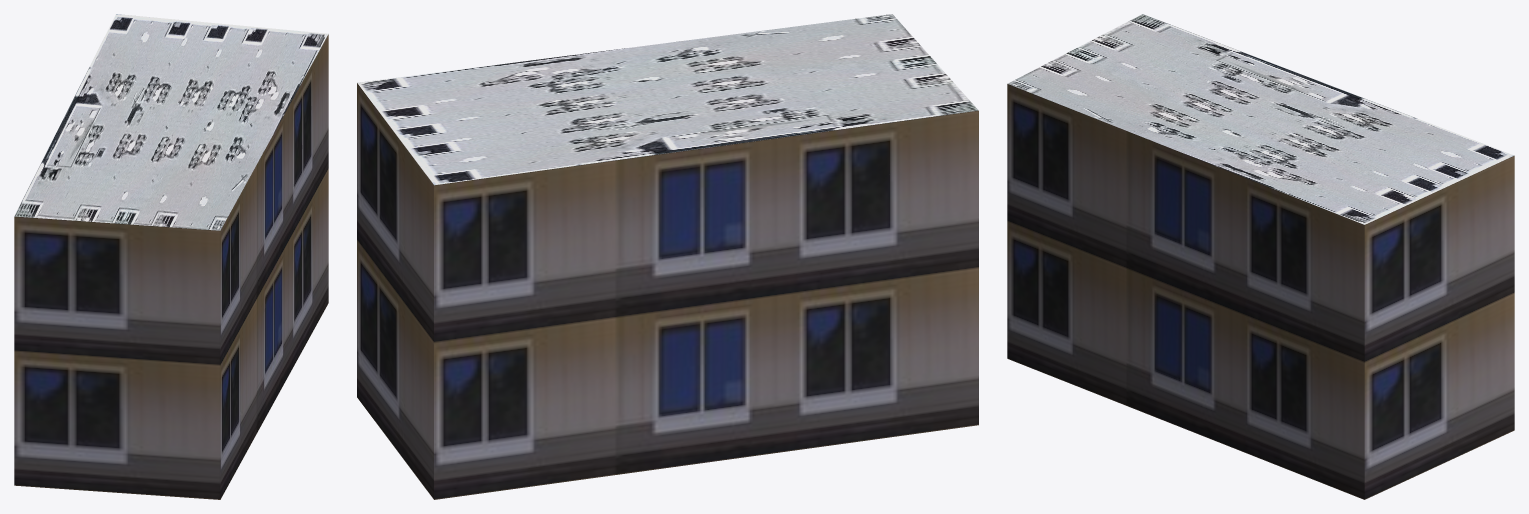
Rendered from ResTex__1027.fbx.
3 views of the same model, side by side, from view 1: azimuth 30°, elevation 25°; view 2: azimuth 150°, elevation 25°; view 3: azimuth 270°, elevation 25° (orthographic). The views are drawn at different scales.
Visible parts, largest first — view 1: CityEngineMaterial_5_m, CityEngineMaterial_m; view 2: CityEngineMaterial_5_m, CityEngineMaterial_m; view 3: CityEngineMaterial_5_m, CityEngineMaterial_m.
Part boxes in pixels (box(x1,y1,x2,y2)): CityEngineMaterial_5_m: box(14, 34, 328, 499); CityEngineMaterial_m: box(14, 14, 328, 230); CityEngineMaterial_5_m: box(357, 83, 978, 499); CityEngineMaterial_m: box(357, 14, 978, 185); CityEngineMaterial_5_m: box(1007, 84, 1514, 499); CityEngineMaterial_m: box(1008, 14, 1513, 224).
Bounding box in the file's own units: 9.87 × 6 × 10.03.
2 materials, 2 textured.
